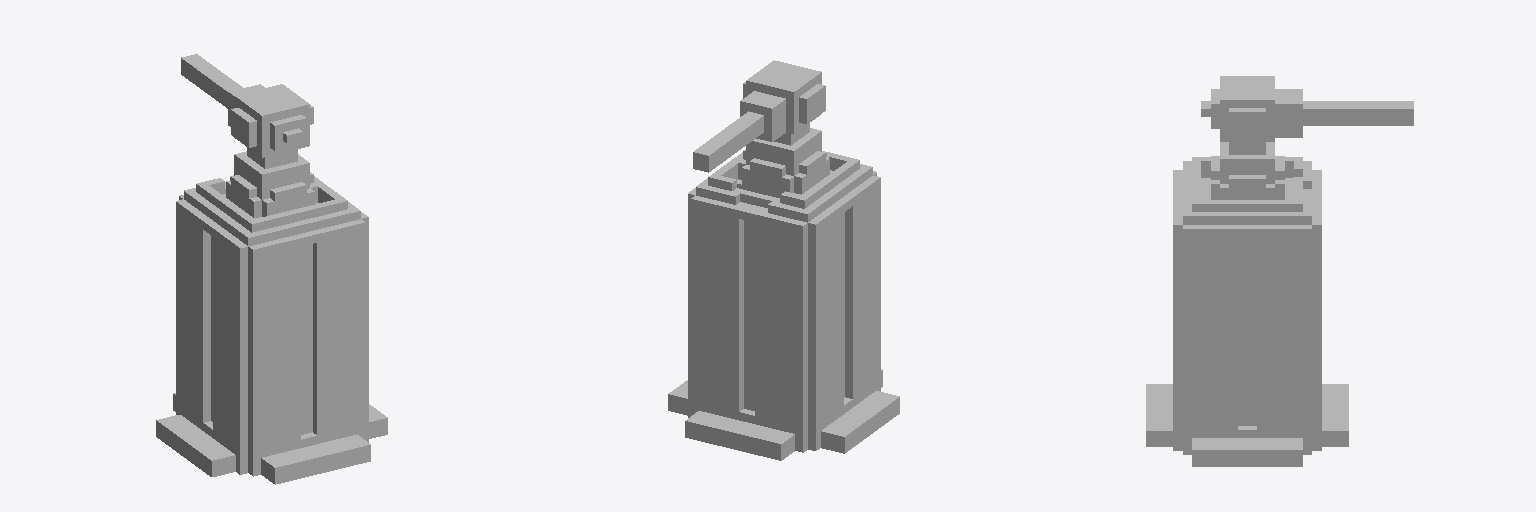
File: tower-1.obj
The picture shows the model from 3 angles: view 1: azimuth 30°, elevation 25°; view 2: azimuth 150°, elevation 25°; view 3: azimuth 270°, elevation 25°; orthographic projection.
Visible parts, largest first — view 1: object 1; view 2: object 1; view 3: object 1.
Part boxes in pixels (x1,y1,x2,y2): object 1: (156,54,387,484); object 1: (668,60,899,460); object 1: (1146,76,1413,466).
Bounding box in the file's own units: 2.2 × 4 × 2.9.